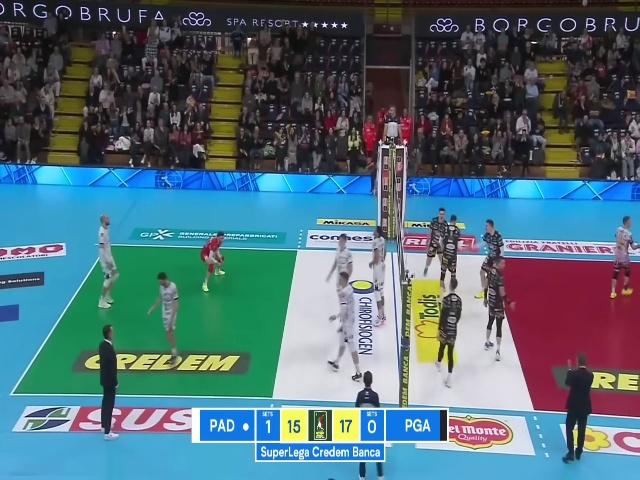volleyball court: (6, 241, 638, 414)
